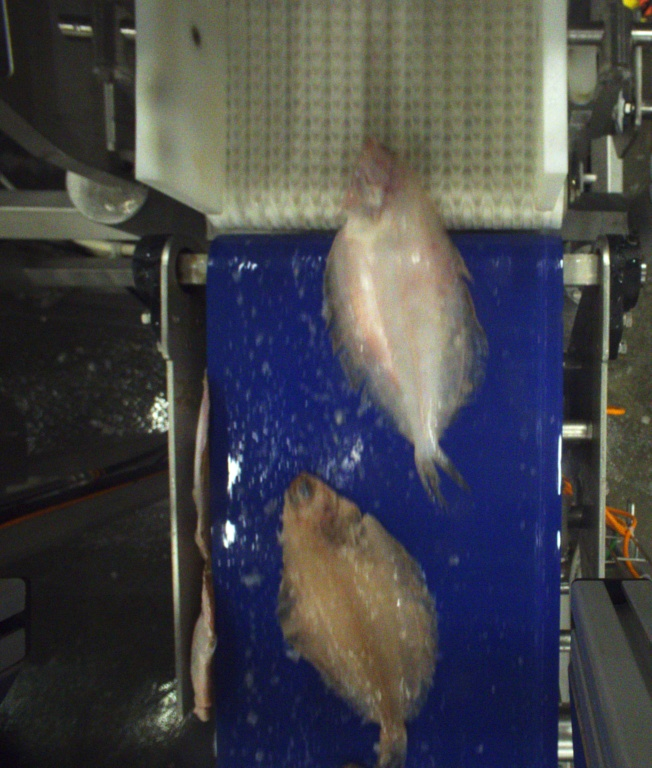WIT: (323, 132, 488, 510)
